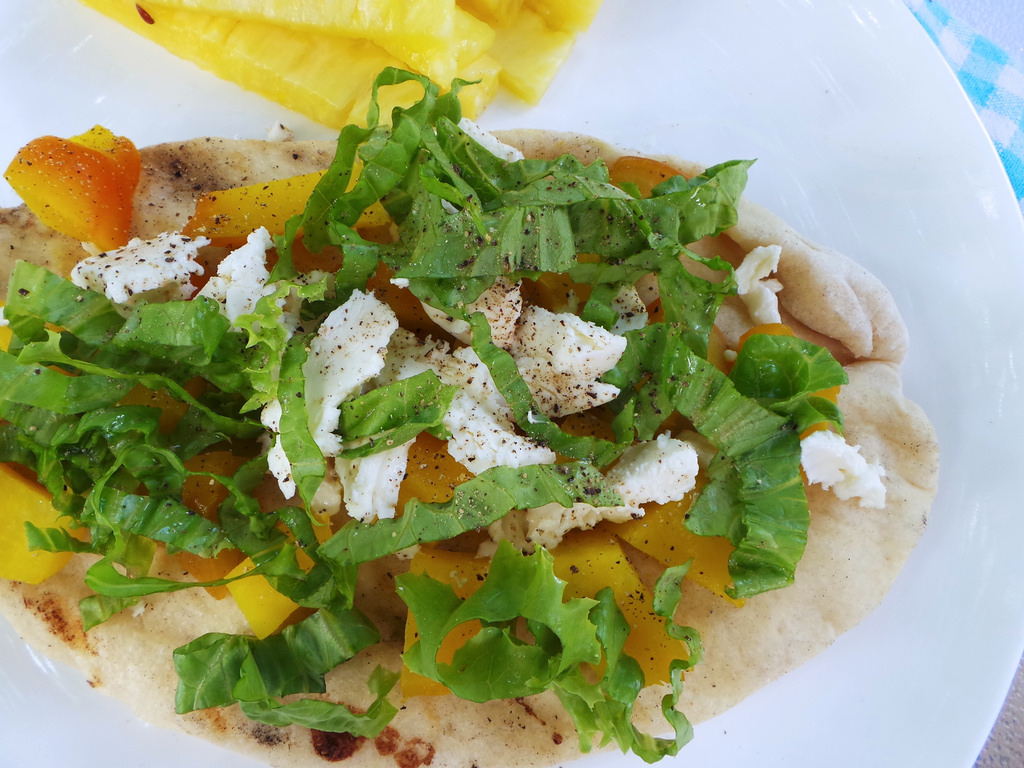chopped lettuce: (188, 292, 652, 649)
